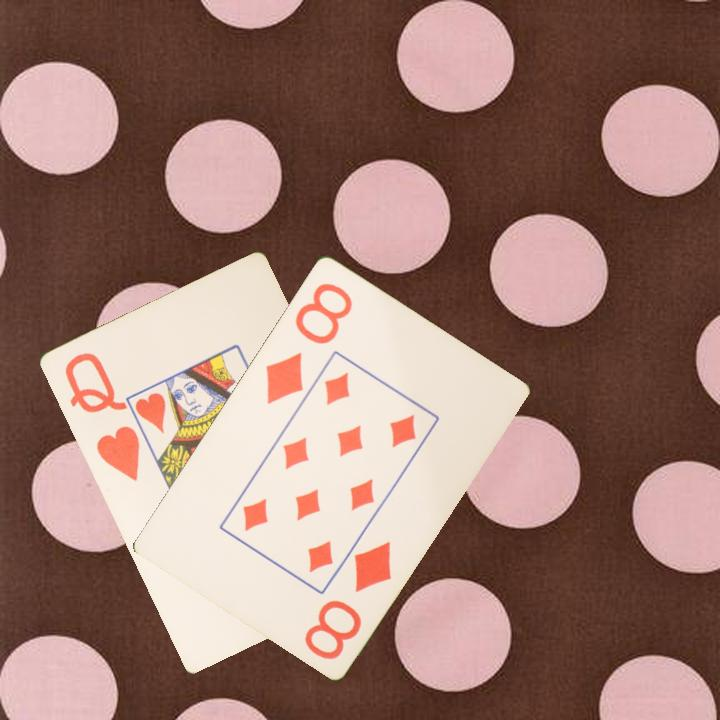8d: (261, 278, 356, 407), (300, 536, 395, 662)
Qh: (60, 348, 142, 484)
